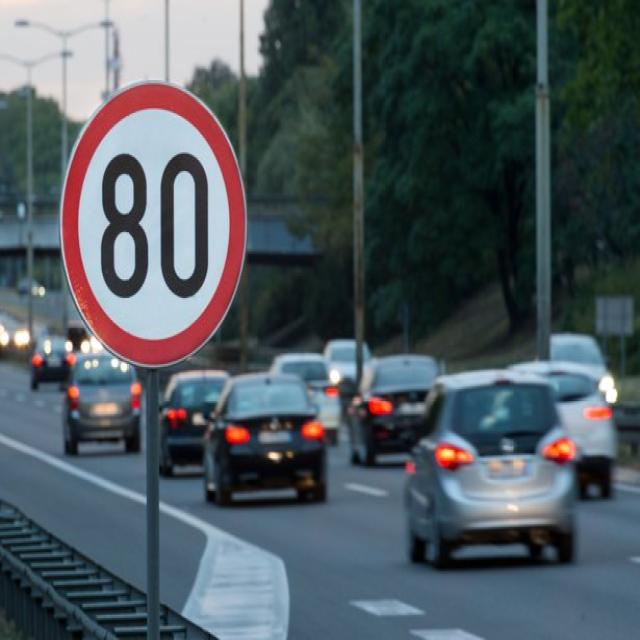Speed Limit -80-: (95, 150, 214, 304)
